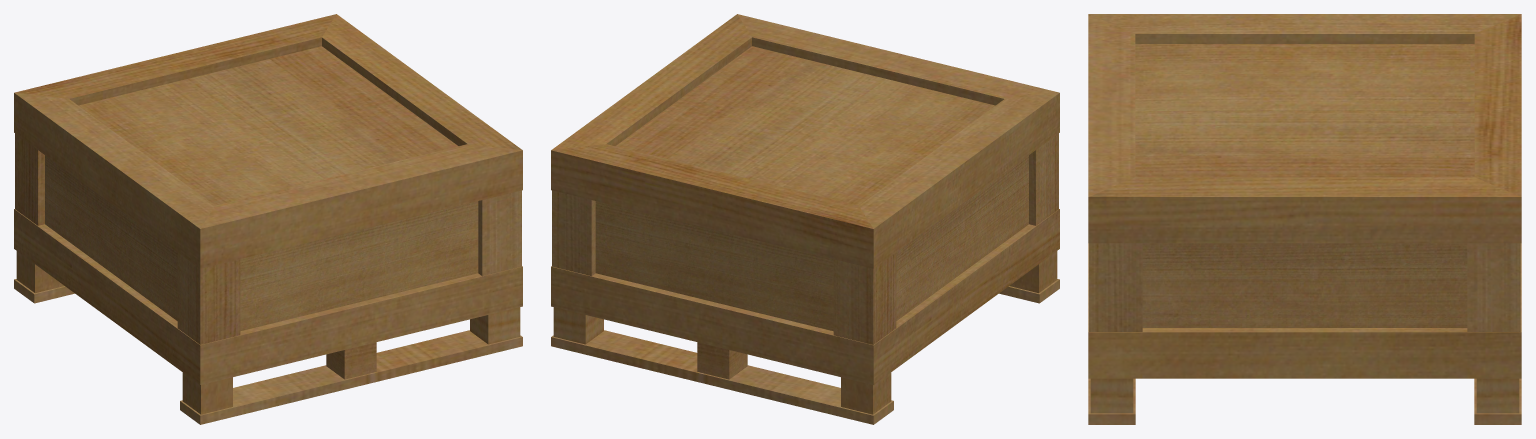
The model's file is Crate_wood04.glb.
3 views of the same model, side by side, from view 1: azimuth 30°, elevation 25°; view 2: azimuth 150°, elevation 25°; view 3: azimuth 270°, elevation 25° (orthographic). The views are drawn at different scales.
Visible parts, largest first — view 1: Crate_wood04; view 2: Crate_wood04; view 3: Crate_wood04.
Part boxes in pixels (bbox=[...]): Crate_wood04: bbox=[14, 14, 522, 424]; Crate_wood04: bbox=[551, 14, 1059, 424]; Crate_wood04: bbox=[1088, 14, 1521, 424].
Size of the model in its own units: 0.7486 by 0.4344 by 0.7486.
Materials: 1 (1 with a texture image).
